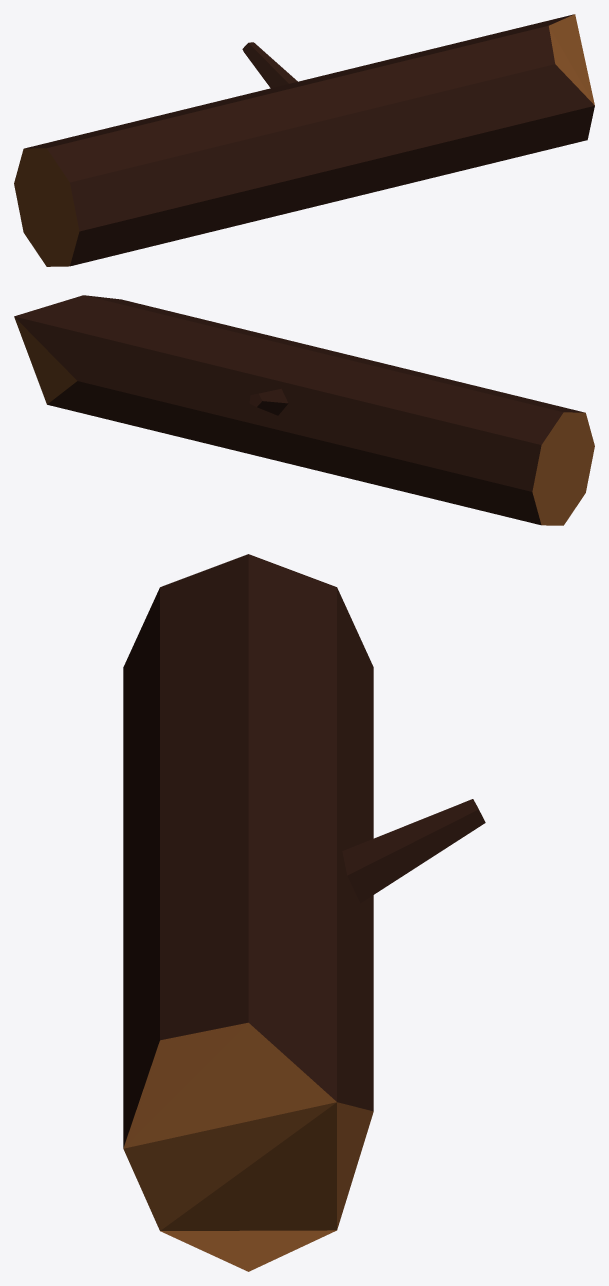
File: Log_Broken_01.fbx
3 renders of one model, top to bottom at view 1: azimuth 30°, elevation 25°; view 2: azimuth 150°, elevation 25°; view 3: azimuth 270°, elevation 25°, orthographic. The views are drawn at different scales.
Parts seen in each view (by area): view 1: Log_Broken_01_Mesh; view 2: Log_Broken_01_Mesh; view 3: Log_Broken_01_Mesh.
Part boxes in pixels (x1,y1,x2,y2): Log_Broken_01_Mesh: (14,14,594,266); Log_Broken_01_Mesh: (14,295,594,525); Log_Broken_01_Mesh: (123,554,485,1271).
Size of the model in its own units: 2.53 by 0.52 by 0.7523.
1 material, 1 textured.
